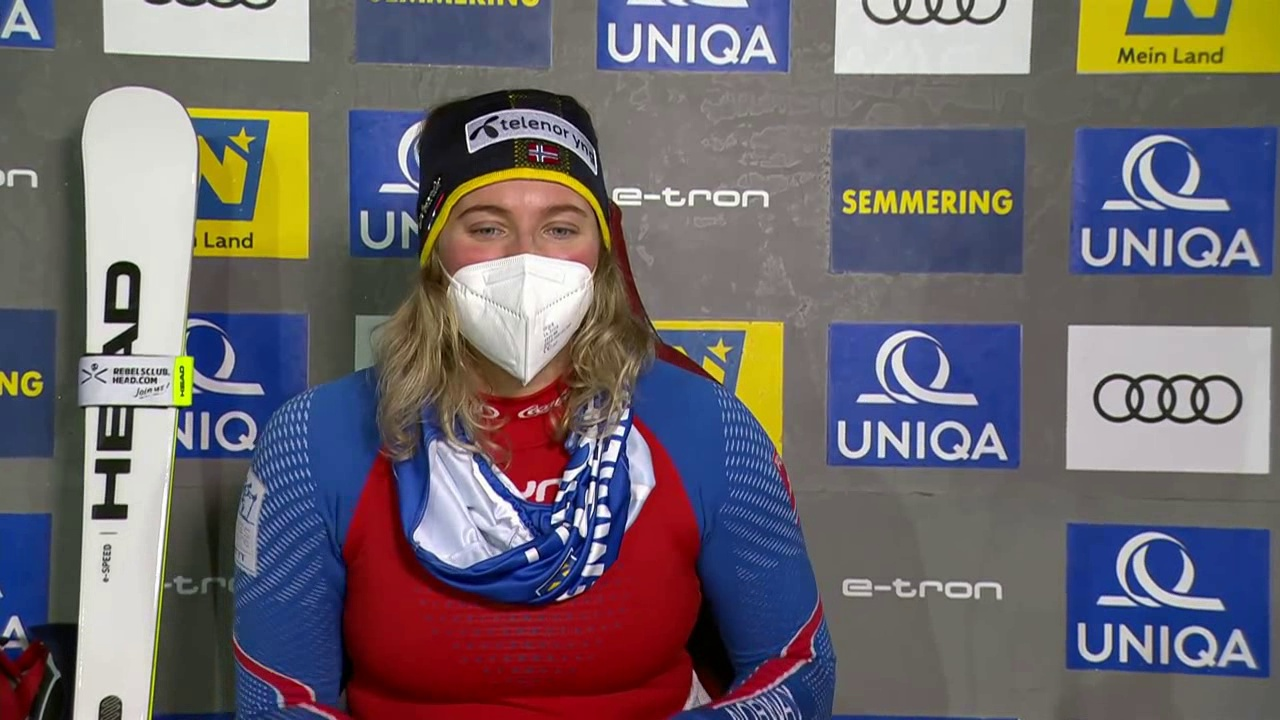audi: (1089, 365, 1244, 437), (852, 1, 1019, 36), (137, 1, 289, 21)
uniqa: (1055, 527, 1274, 677), (1071, 127, 1275, 285), (831, 333, 1004, 475), (596, 1, 797, 77), (341, 126, 468, 246)
